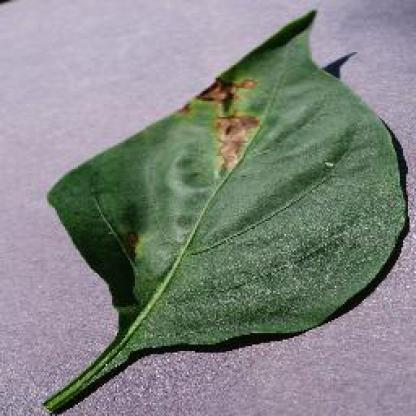bad leaf: (191, 66, 272, 187)
